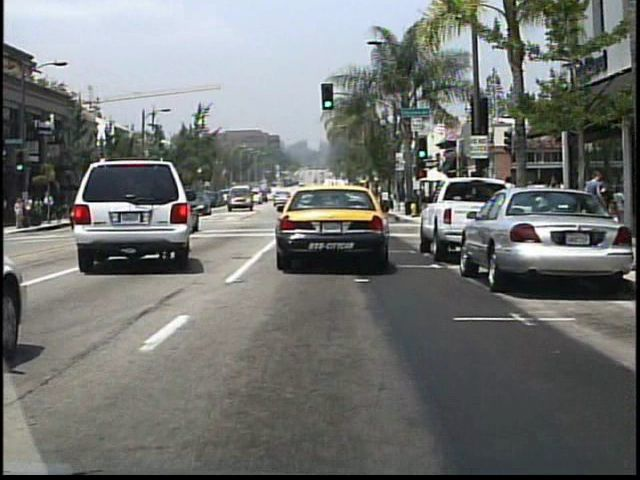person: (545, 174, 568, 236), (584, 170, 605, 232), (14, 195, 28, 230), (43, 191, 56, 222)
